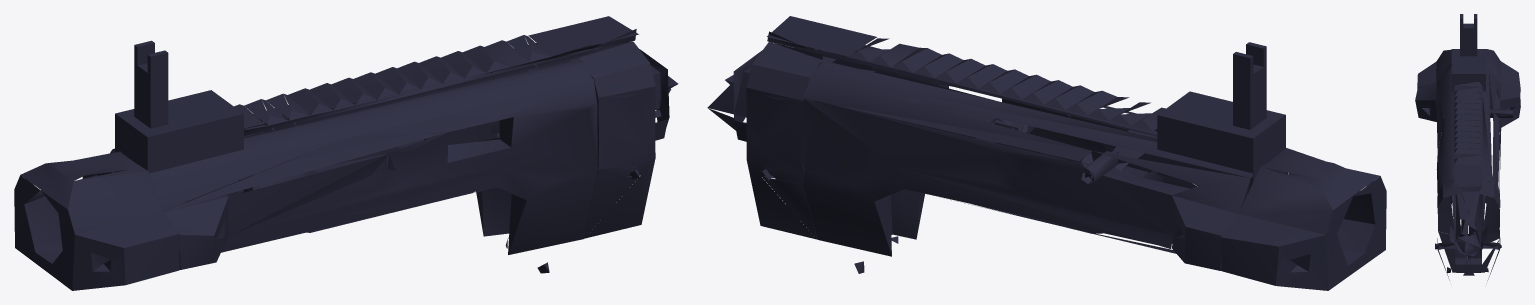
File: cuerpo.glb
3 renders of one model, left to right at view 1: azimuth 30°, elevation 25°; view 2: azimuth 150°, elevation 25°; view 3: azimuth 270°, elevation 25°, orthographic. The views are drawn at different scales.
Parts seen in each view (by area): view 1: cuerpo; view 2: cuerpo; view 3: cuerpo.
Boxes of the visible parts, <box> form: cuerpo: <box>14,16,678,290</box>; cuerpo: <box>707,16,1386,290</box>; cuerpo: <box>1415,14,1520,280</box>.
Bounding box in the file's own units: 0.2923 × 0.1324 × 0.0791.
